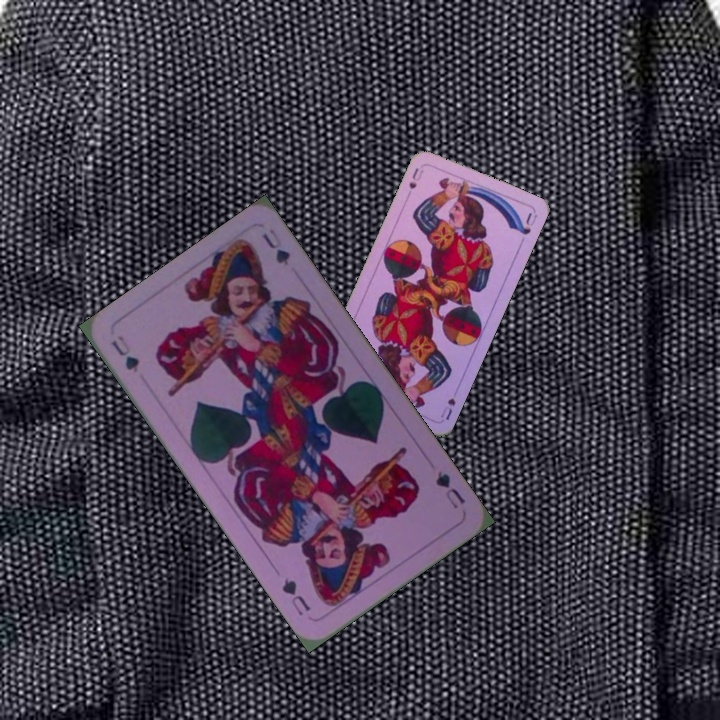GU: (431, 466, 469, 512), (107, 331, 143, 376)
SU: (436, 394, 458, 422), (405, 164, 427, 192)
